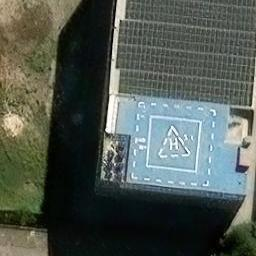heliponto: (147, 117, 201, 171)
